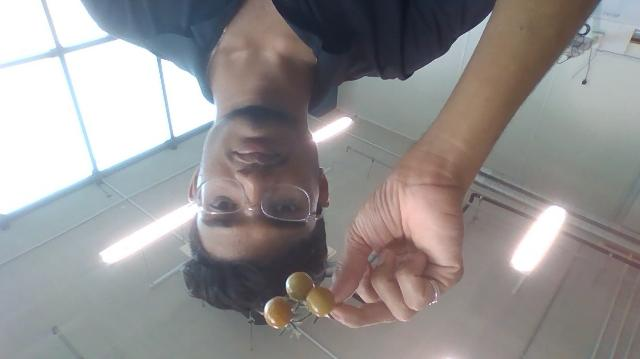Fully Grown: (263, 296, 294, 330), (305, 286, 336, 319), (285, 271, 314, 303)
